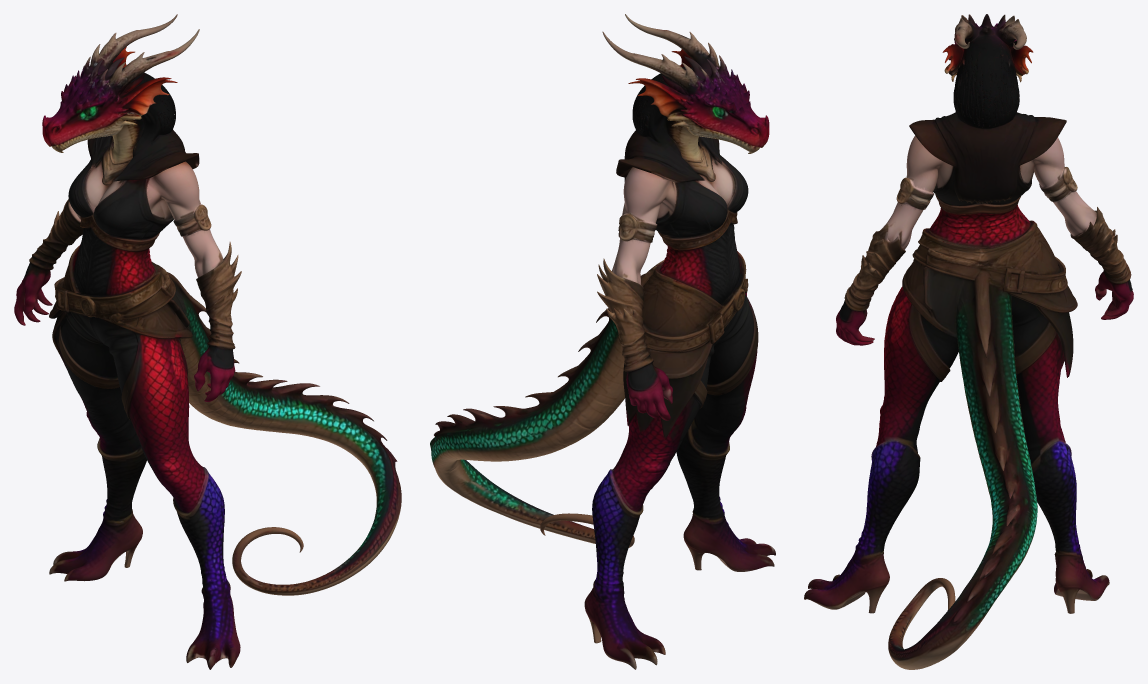
Rendered from dragonborn_rogue_full_female_01.glb.
The picture shows the model from 3 angles, left to right: view 1: azimuth 30°, elevation 25°; view 2: azimuth 150°, elevation 25°; view 3: azimuth 270°, elevation 25°; orthographic projection. The views are drawn at different scales.
Parts seen in each view (by area): view 1: material; view 2: material; view 3: material.
Boxes of the visible parts, x1,y1,x2,y2 form: material: (14, 14, 401, 669); material: (430, 14, 775, 669); material: (804, 14, 1133, 669).
Size of the model in its own units: 0.641 by 1.03 by 0.5307.
Materials: 1 (1 with a texture image).
